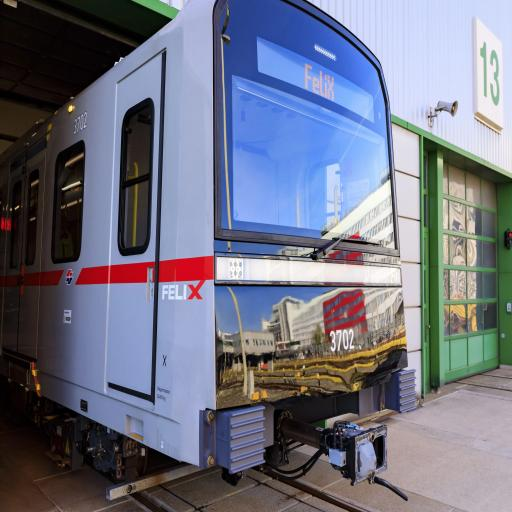X-Wagen: (0, 0, 418, 443)
